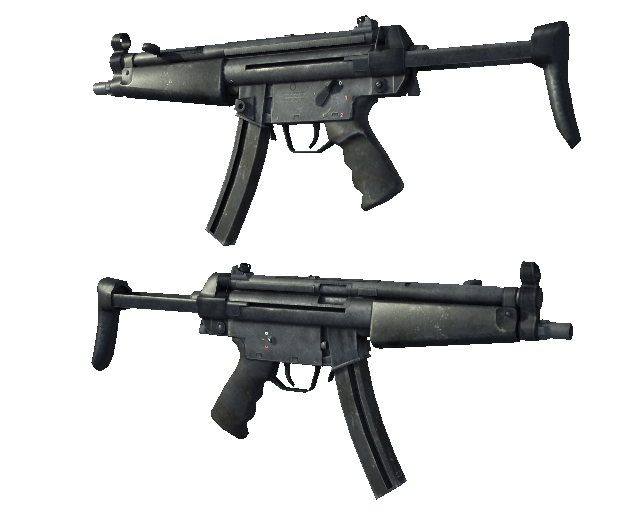rifle: (76, 257, 609, 501), (85, 16, 593, 213)
